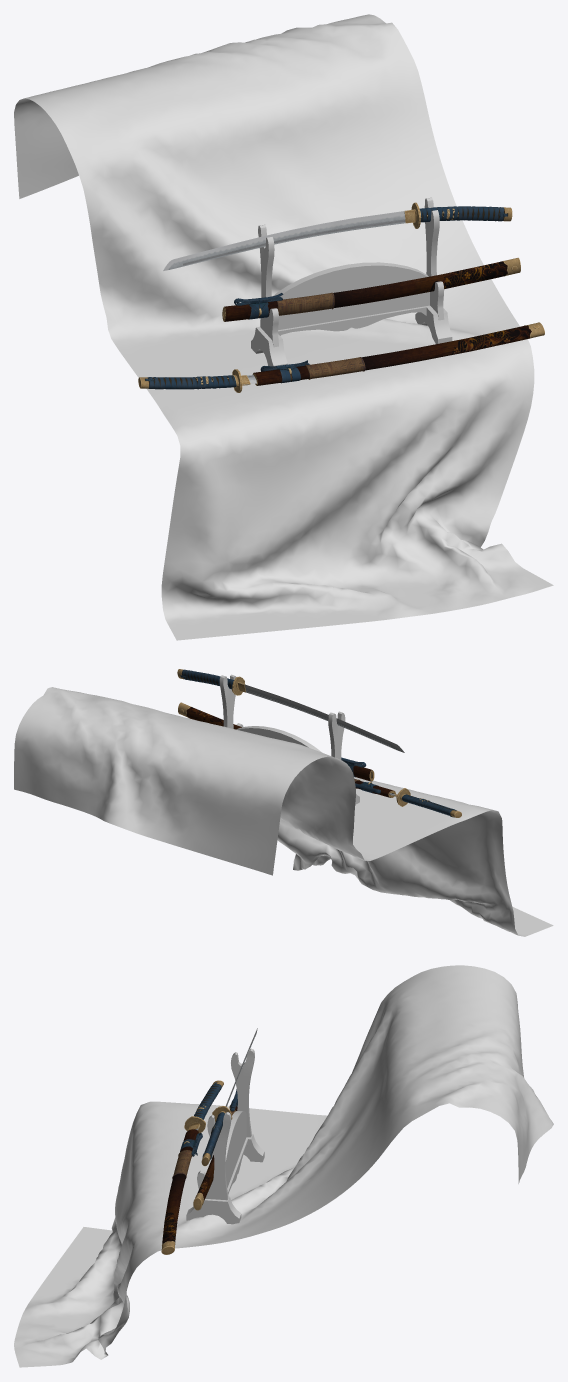
File: Katana_Sketchfab.fbx
3 views of the same model, one above another, from view 1: azimuth 30°, elevation 25°; view 2: azimuth 150°, elevation 25°; view 3: azimuth 270°, elevation 25° (orthographic). The views are drawn at different scales.
Parts seen in each view (by area): view 1: Japanese_Textile_01, Katana_Stand_01, Scabbard_01b, Scabbard_01a, BlueWave_Katana_01, BlueWave_Katana_01a; view 2: Japanese_Textile_01, Katana_Stand_01, BlueWave_Katana_01, Scabbard_01b, BlueWave_Katana_01a, Scabbard_01a; view 3: Japanese_Textile_01, Katana_Stand_01, Scabbard_01a, BlueWave_Katana_01, BlueWave_Katana_01a, Scabbard_01b.
Boxes of the visible parts, x1,y1,x2,y2 form: Japanese_Textile_01: [14, 14, 553, 640]; Katana_Stand_01: [251, 197, 452, 366]; Scabbard_01b: [222, 257, 520, 321]; Scabbard_01a: [252, 322, 544, 385]; BlueWave_Katana_01: [163, 202, 512, 270]; BlueWave_Katana_01a: [138, 369, 256, 392]; Japanese_Textile_01: [14, 687, 553, 936]; Katana_Stand_01: [219, 674, 359, 804]; BlueWave_Katana_01: [177, 669, 404, 752]; Scabbard_01b: [178, 702, 374, 781]; BlueWave_Katana_01a: [389, 788, 461, 817]; Scabbard_01a: [354, 779, 395, 797]; Japanese_Textile_01: [14, 965, 553, 1367]; Katana_Stand_01: [186, 1048, 264, 1224]; Scabbard_01a: [161, 1129, 202, 1254]; BlueWave_Katana_01: [201, 1028, 257, 1166]; BlueWave_Katana_01a: [184, 1080, 223, 1132]; Scabbard_01b: [193, 1089, 237, 1210].
Size of the model in its own units: 188 by 148 by 239.
